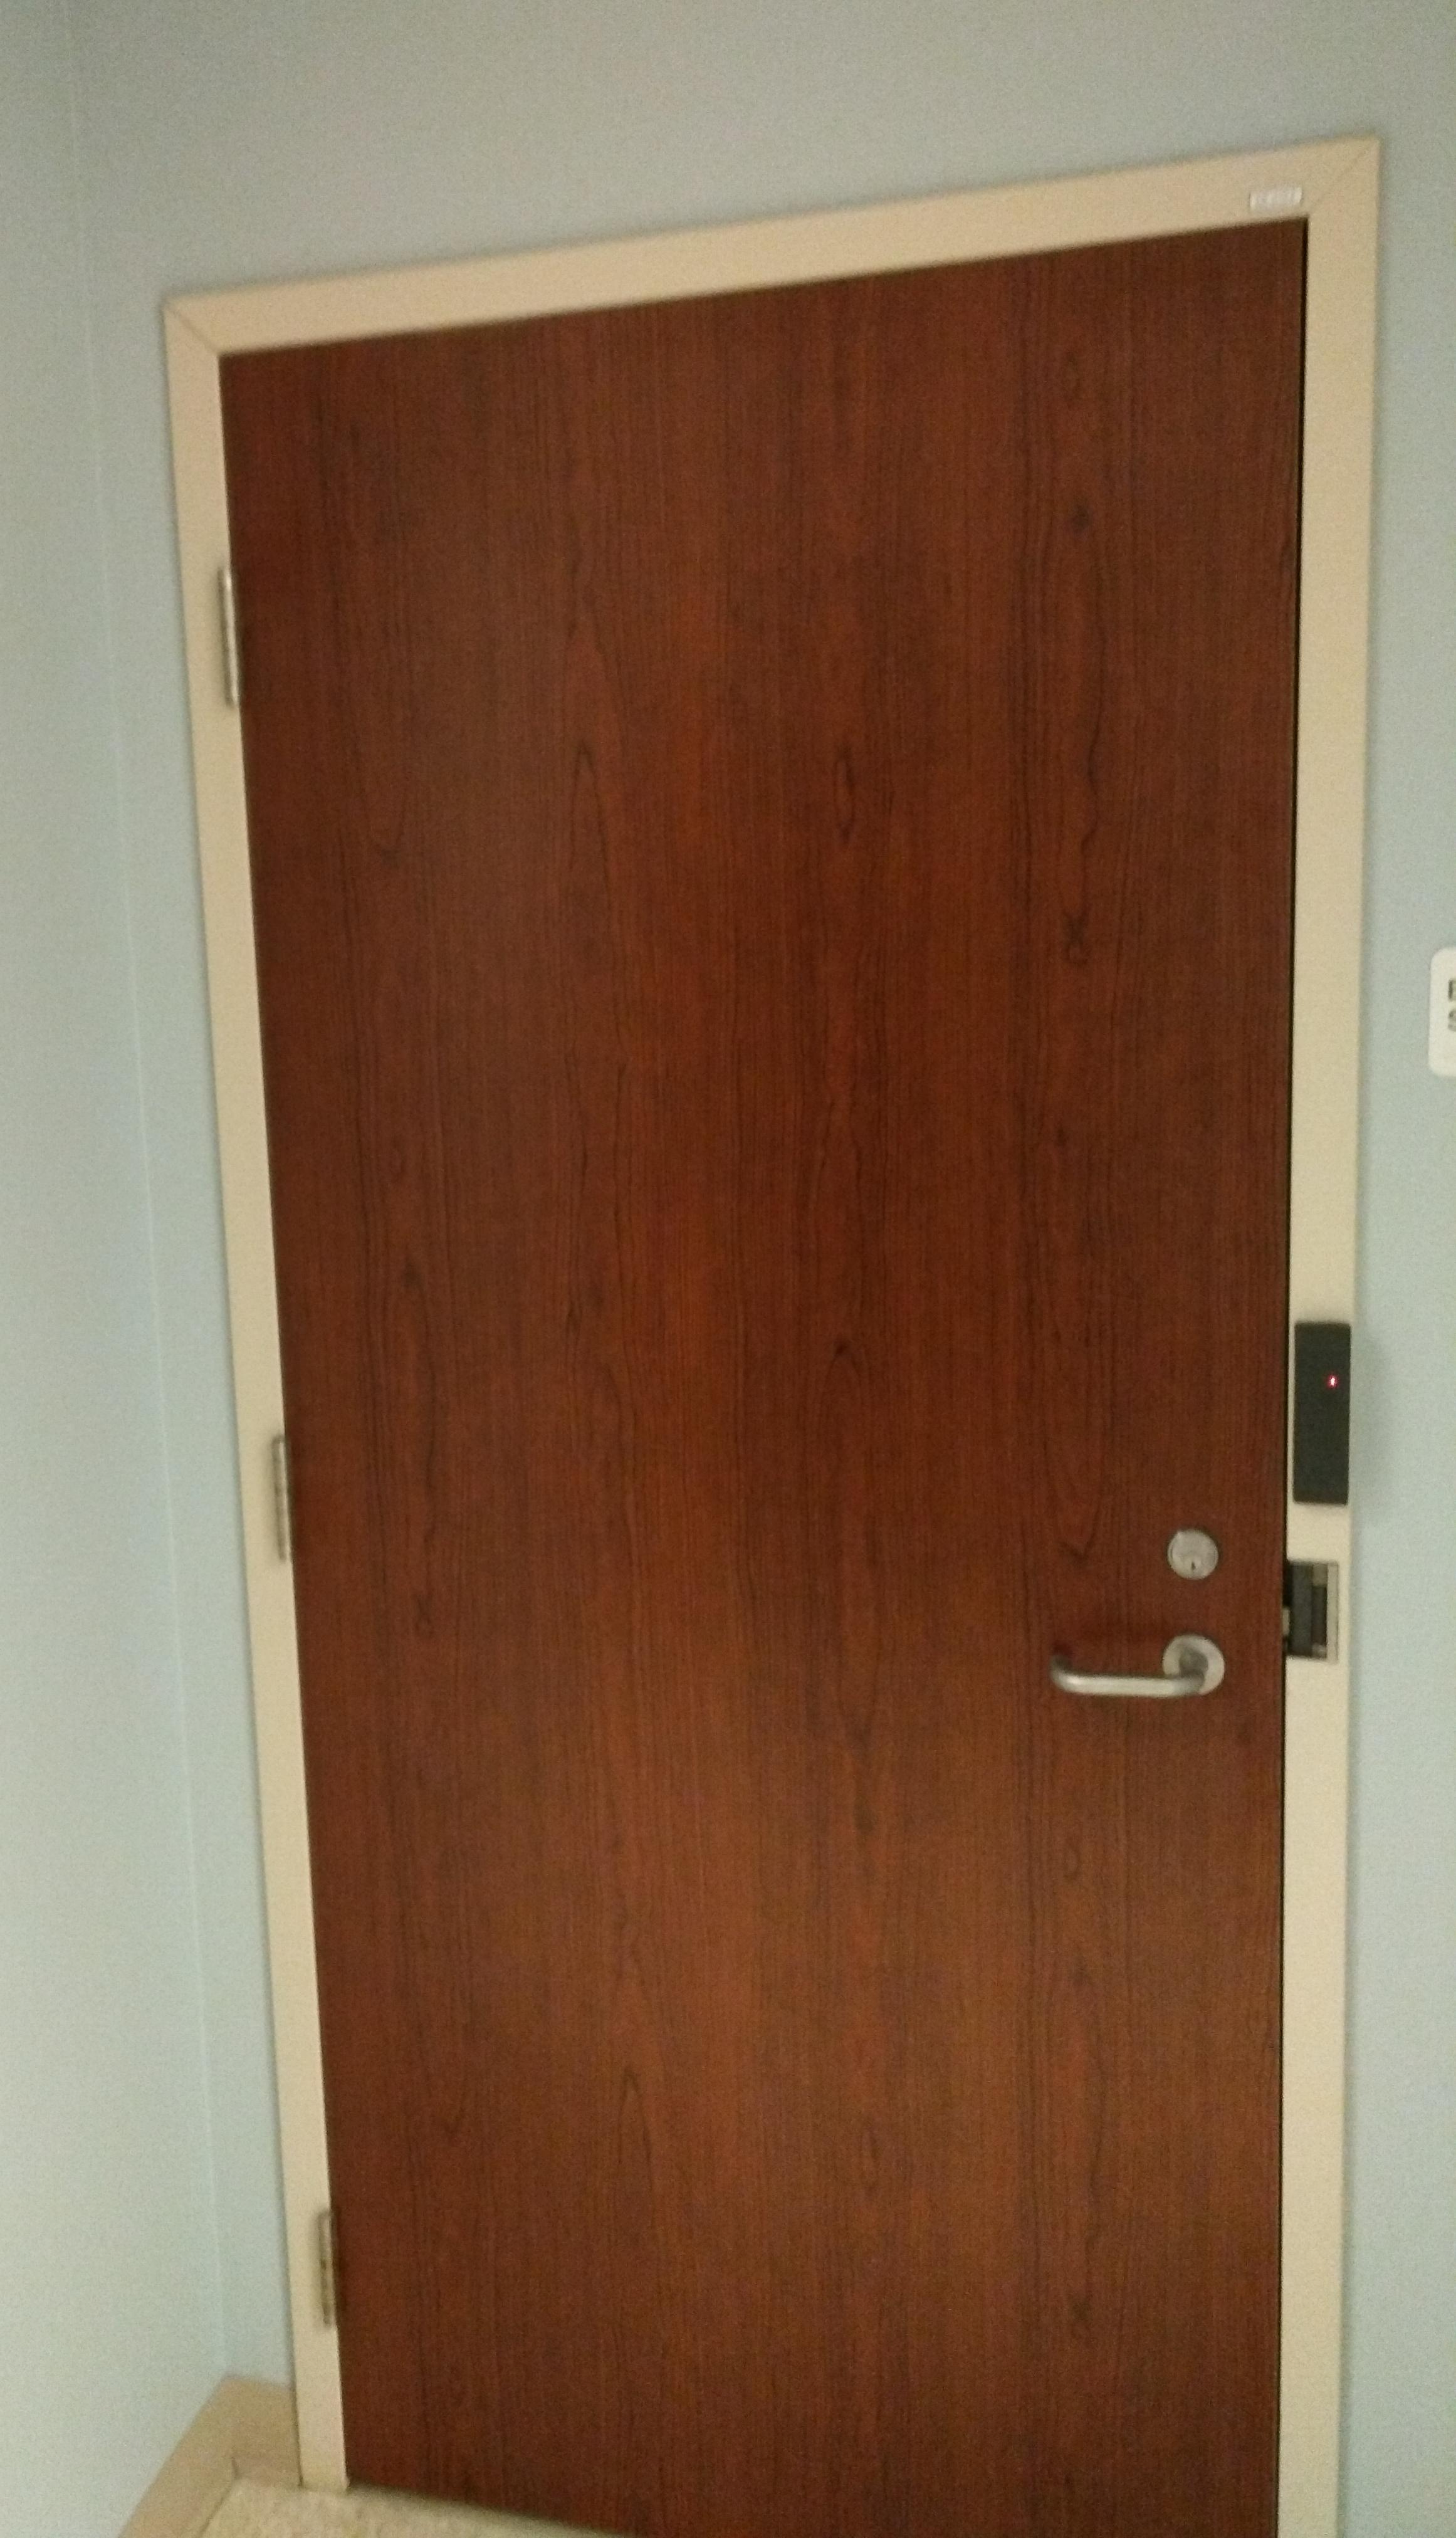door: (232, 173, 1310, 2538)
